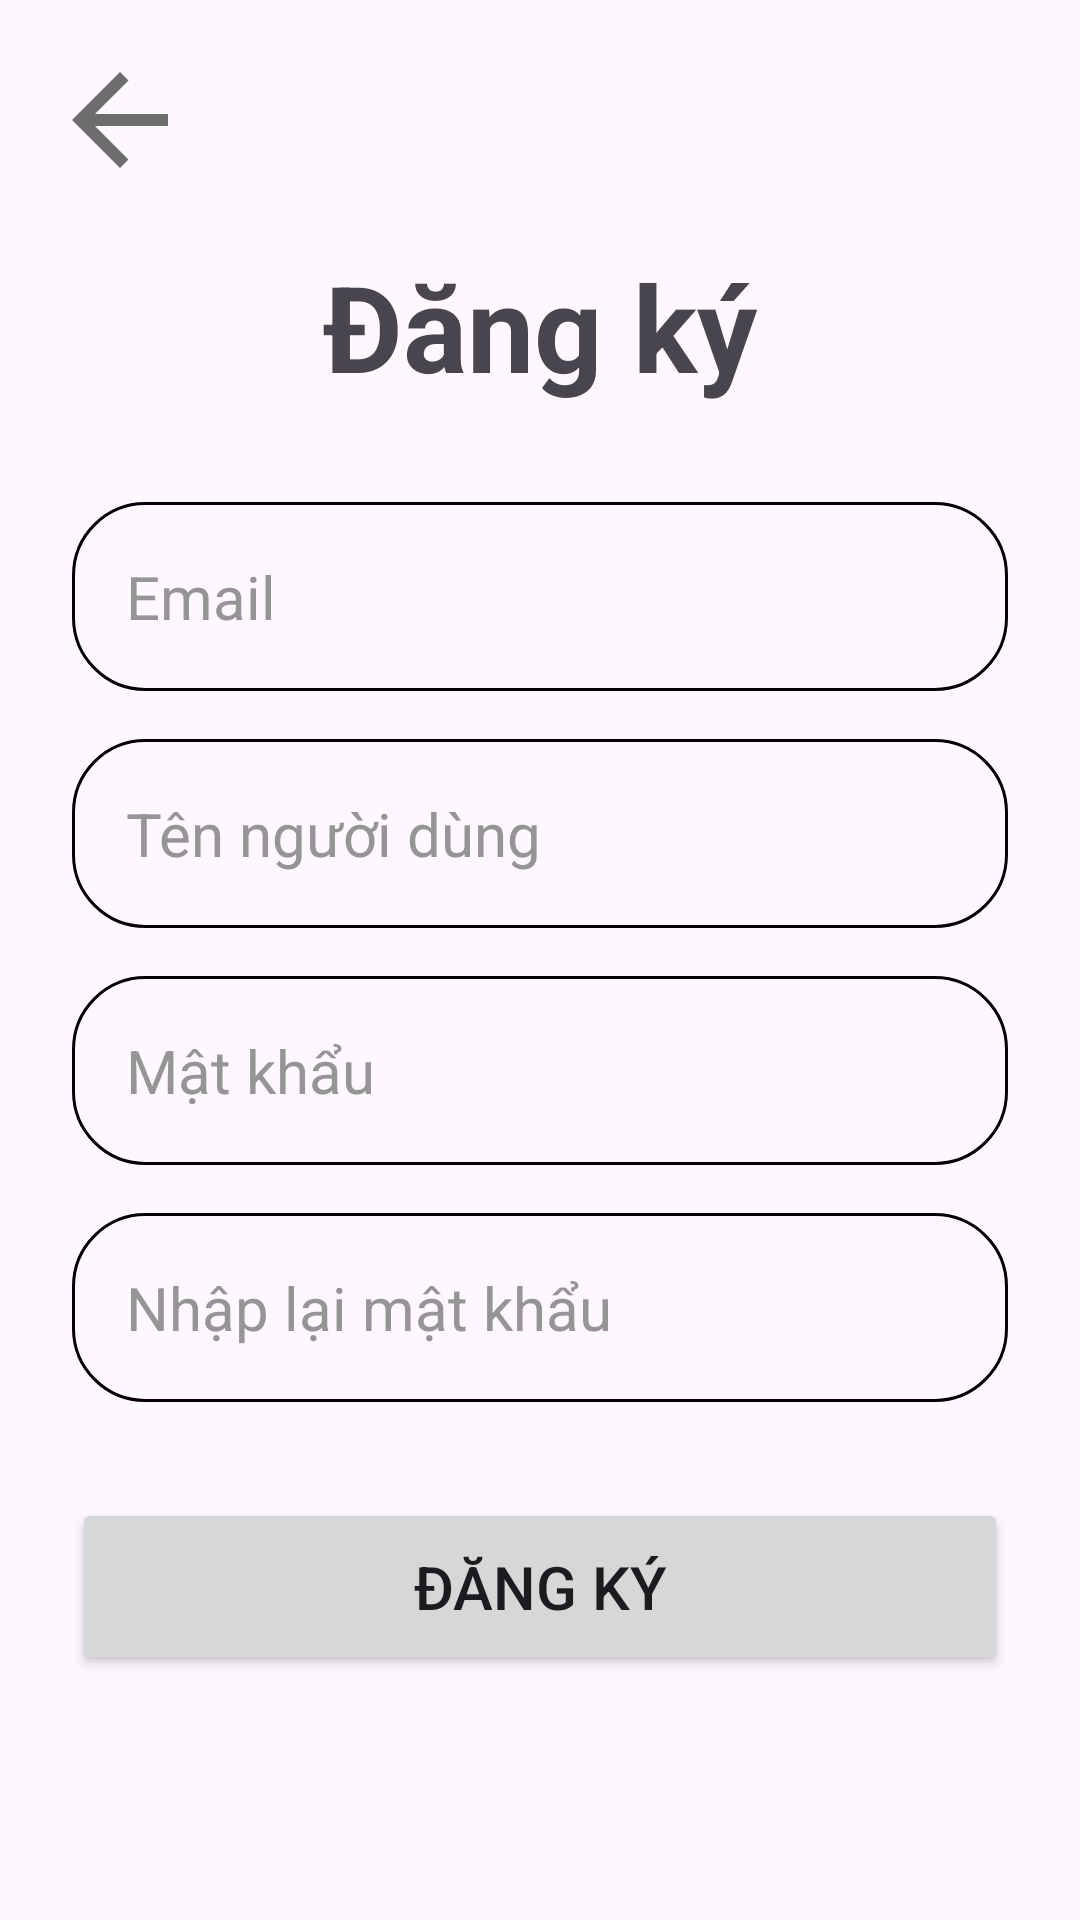

Point at icon controls on the screen. Image size 1080 x 1920, points as point (x, y).
Back: point (120, 120)
